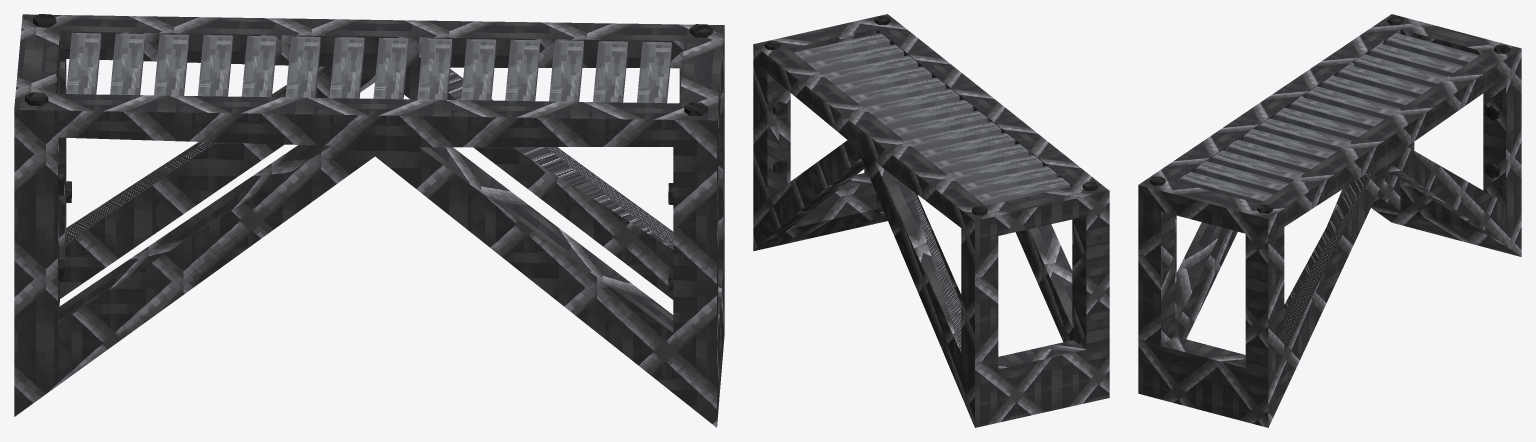
Rendered from BridgeLarger.fbx.
3 views of the same model, side by side, from view 1: azimuth 30°, elevation 25°; view 2: azimuth 150°, elevation 25°; view 3: azimuth 270°, elevation 25° (orthographic). The views are drawn at different scales.
Visible parts, largest first — view 1: SmallBridge.001, steps.011; view 2: SmallBridge.001, steps.011; view 3: SmallBridge.001, steps.011.
Boxes of the visible parts, x1,y1,x2,y2 form: SmallBridge.001: (14,14,724,427); steps.011: (66,33,671,103); SmallBridge.001: (753,14,1109,427); steps.011: (794,33,1070,205); SmallBridge.001: (1138,14,1521,427); steps.011: (1179,33,1479,203).
Bounding box in the file's own units: 1583 × 762 × 1249.
